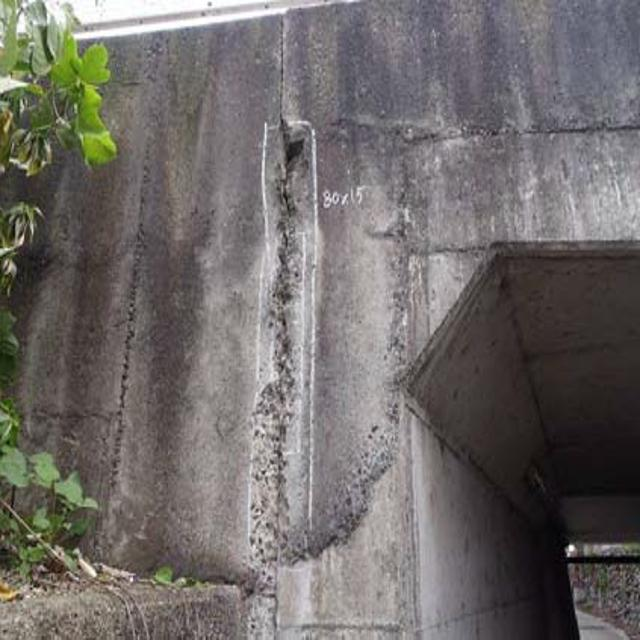spalling: (246, 119, 308, 544)
